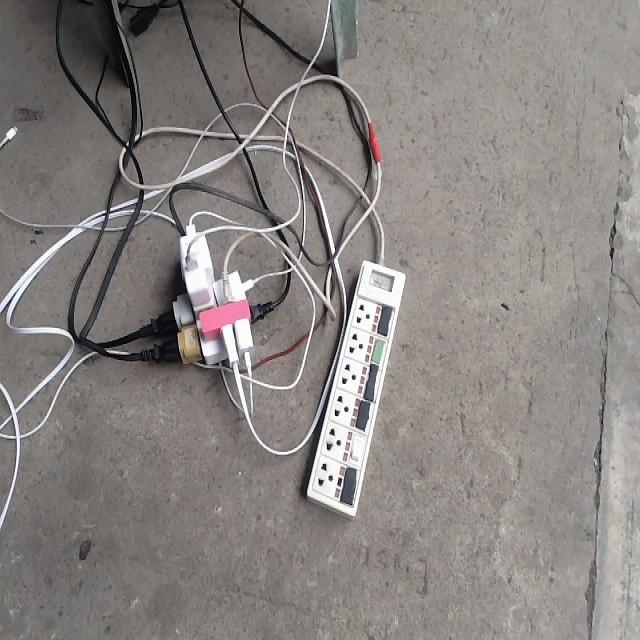-: (148, 213, 267, 380)
